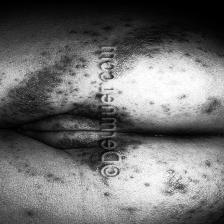Toxin: (110, 22, 204, 76), (4, 54, 70, 114)
